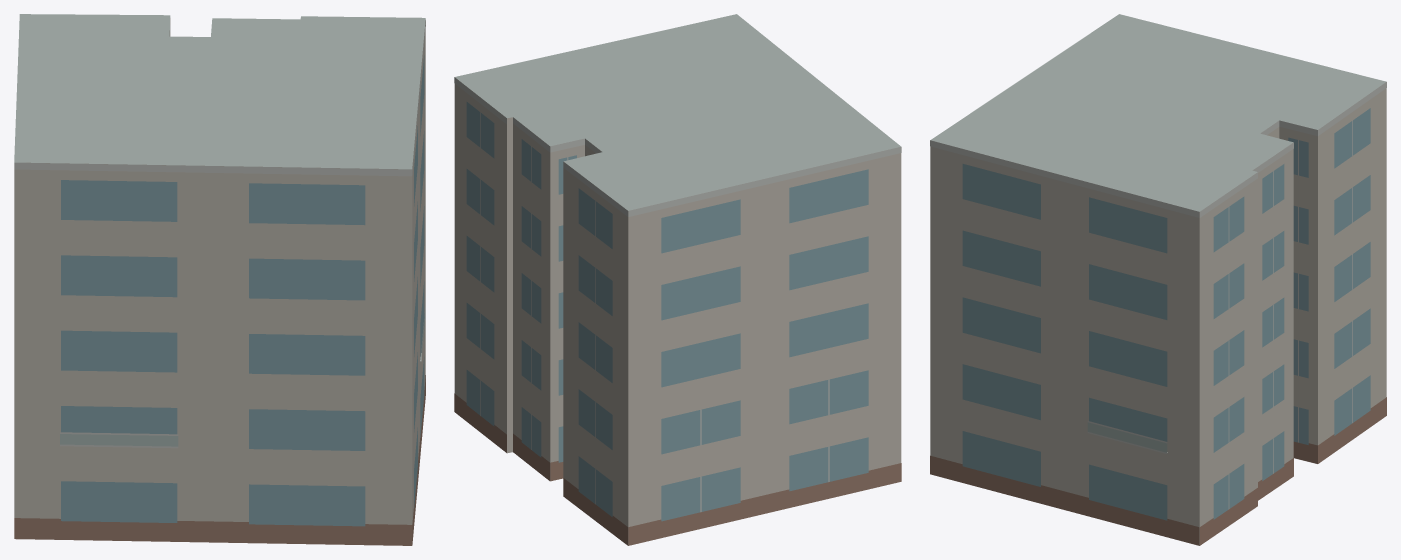
File: survey-upis-32686266.glb
3 views of the same model, side by side, from view 1: azimuth 30°, elevation 25°; view 2: azimuth 150°, elevation 25°; view 3: azimuth 270°, elevation 25° (orthographic). The views are drawn at different scales.
Visible parts, largest first — view 1: survey-upis-32686266.tmp; view 2: survey-upis-32686266.tmp; view 3: survey-upis-32686266.tmp.
Boxes of the visible parts, x1=… form: survey-upis-32686266.tmp: x1=14, y1=14, x2=425, y2=545; survey-upis-32686266.tmp: x1=454, y1=14, x2=901, y2=545; survey-upis-32686266.tmp: x1=930, y1=14, x2=1386, y2=545.
Bounding box in the file's own units: 16.58 × 13.05 × 16.17.
